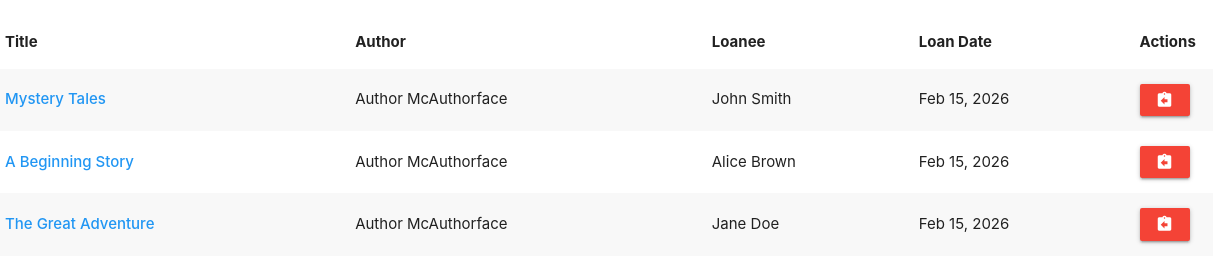
Test case: LoanedBookGrid Component › should toggle sort direction when clicking same column header
First click: ascending
Step 1. Click the column heading "Loanee" → x=739, y=42, box [707,16,914,68]
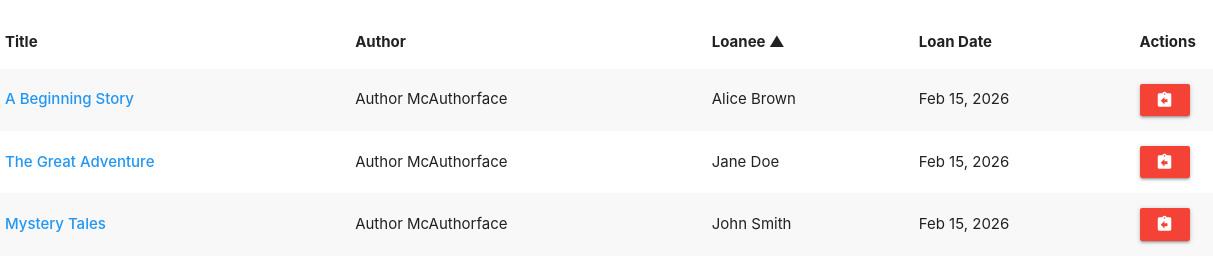
expect the column heading "Loanee ▲" is shown: met
Second click: descending
Step 2. Click the column heading "Loanee ▲" → x=739, y=42, box [707,16,914,68]
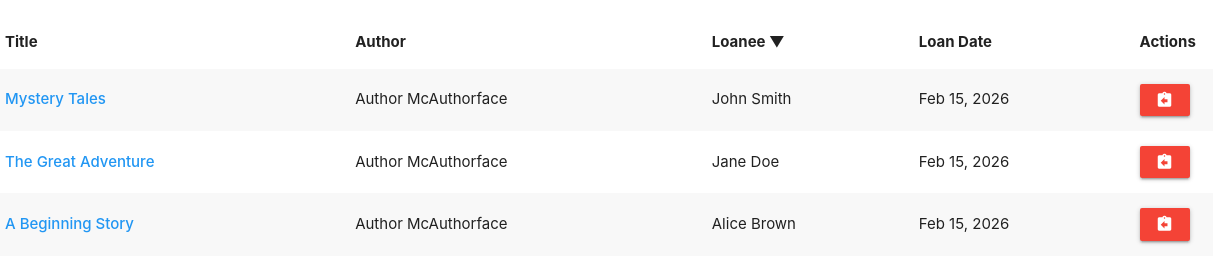
expect the column heading "Loanee ▼" is shown: met, box [707,16,914,68]
